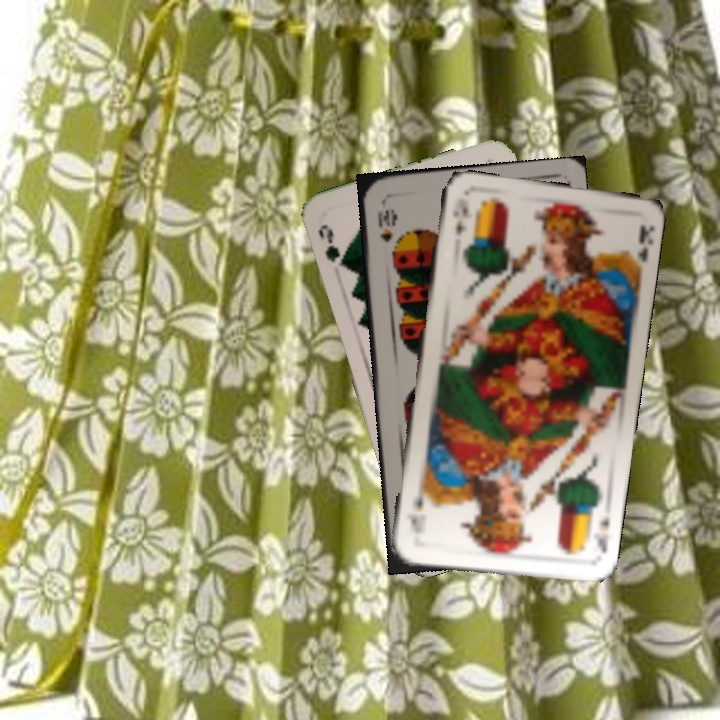EK: (589, 511, 612, 556), (449, 195, 471, 238)
G9: (314, 220, 348, 271)
S10: (373, 197, 396, 245)
